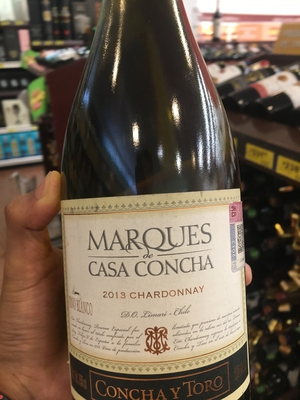marques de casa concha chardonnay: (63, 22, 258, 400)
